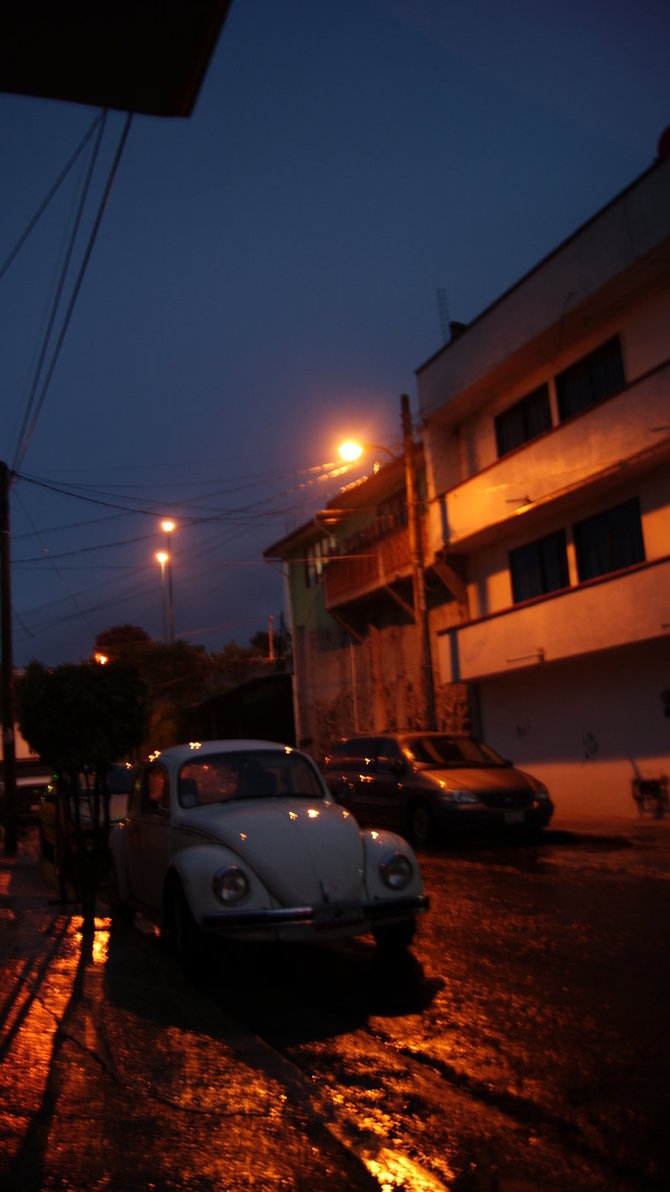car: (314, 716, 561, 860)
